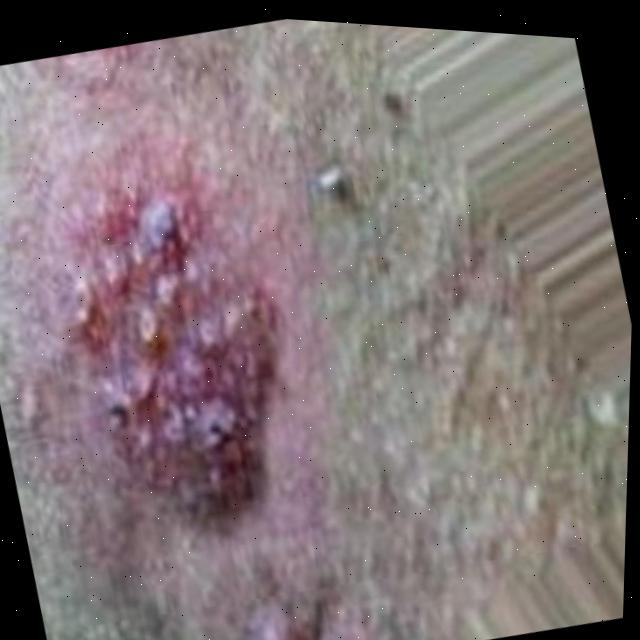Shingles: (34, 175, 313, 548)
